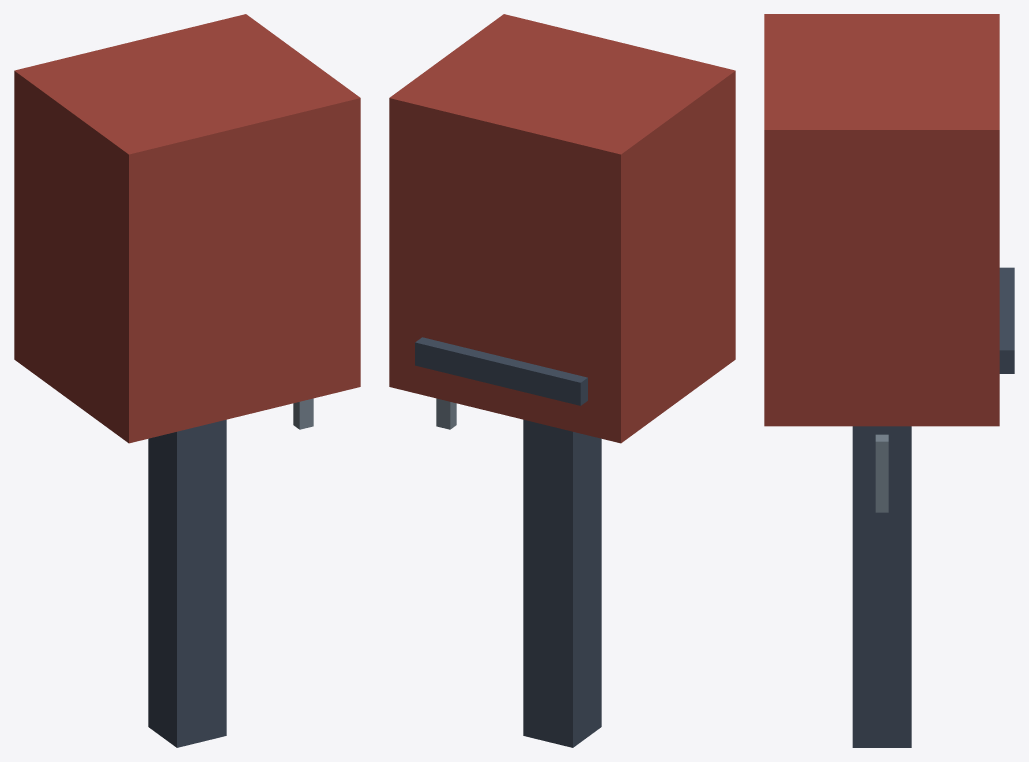
The model's file is mailbox.glb.
3 views of the same model, side by side, from view 1: azimuth 30°, elevation 25°; view 2: azimuth 150°, elevation 25°; view 3: azimuth 270°, elevation 25° (orthographic). The views are drawn at different scales.
Visible parts, largest first — view 1: mailbox; view 2: mailbox; view 3: mailbox.
Part boxes in pixels (x1,y1,x2,y2): mailbox: (14, 14, 360, 747); mailbox: (389, 14, 735, 747); mailbox: (764, 14, 1014, 747).
Size of the model in its own units: 0.4325 by 1.12 by 0.3825.
